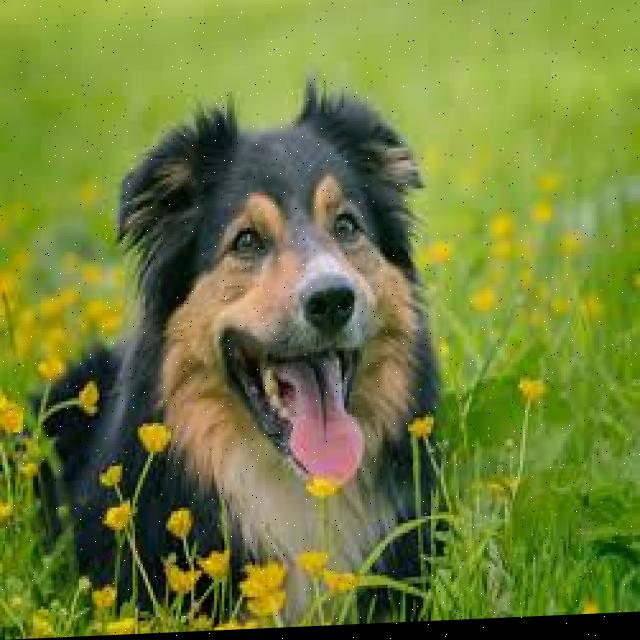ALASKAN_MALAMUTE: (26, 74, 451, 639)
